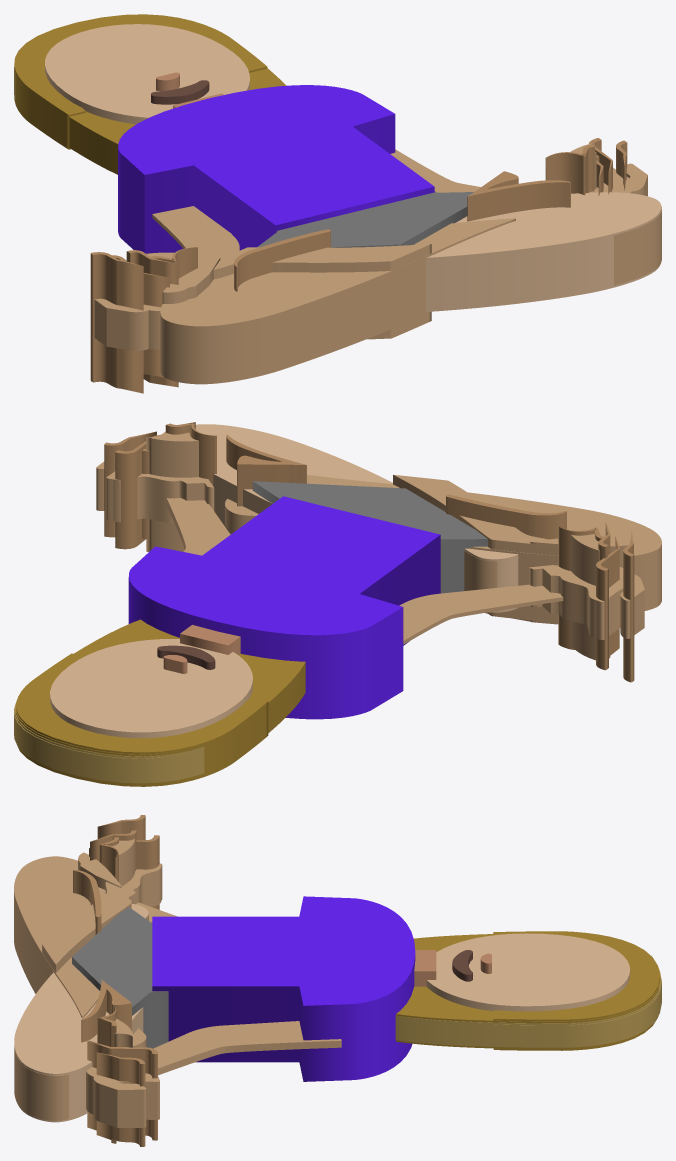
The model's file is emoji_u1f9d8_1f3fc_200d_2640.glb.
The picture shows the model from 3 angles, top to bottom: view 1: azimuth 30°, elevation 25°; view 2: azimuth 150°, elevation 25°; view 3: azimuth 270°, elevation 25°; orthographic projection. The views are drawn at different scales.
Visible parts, largest first — view 1: emoji_u1f9d8_1f3fc_200d_2640; view 2: emoji_u1f9d8_1f3fc_200d_2640; view 3: emoji_u1f9d8_1f3fc_200d_2640.
Part boxes in pixels (bbox=[...]): emoji_u1f9d8_1f3fc_200d_2640: bbox=[14, 14, 661, 393]; emoji_u1f9d8_1f3fc_200d_2640: bbox=[14, 422, 661, 786]; emoji_u1f9d8_1f3fc_200d_2640: bbox=[14, 815, 661, 1146].
Size of the model in its own units: 0.0294 by 0.0068 by 0.034.
